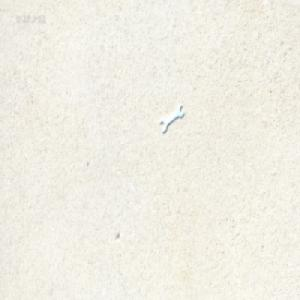Wrench: (159, 106, 184, 136)
